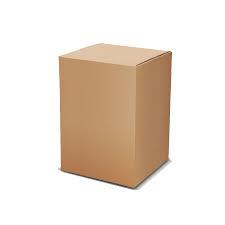Cardboard: (37, 30, 191, 202)
